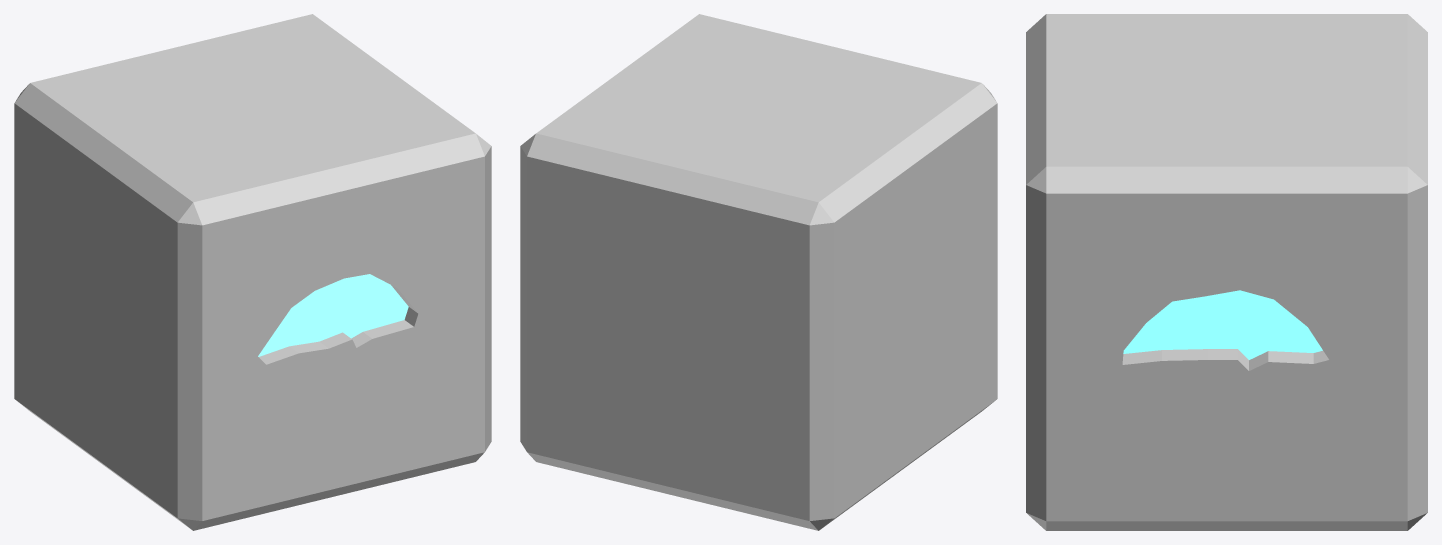
The model's file is Kupyarimdaire.fbx.
The picture shows the model from 3 angles, left to right: view 1: azimuth 30°, elevation 25°; view 2: azimuth 150°, elevation 25°; view 3: azimuth 270°, elevation 25°; orthographic projection. The views are drawn at different scales.
Parts seen in each view (by area): view 1: Cube.005; view 2: Cube.005; view 3: Cube.005.
Boxes of the visible parts, bbox=[...] form: Cube.005: bbox=[14, 14, 491, 530]; Cube.005: bbox=[520, 14, 997, 530]; Cube.005: bbox=[1026, 14, 1427, 530].
Size of the model in its own units: 119 by 119 by 119.
